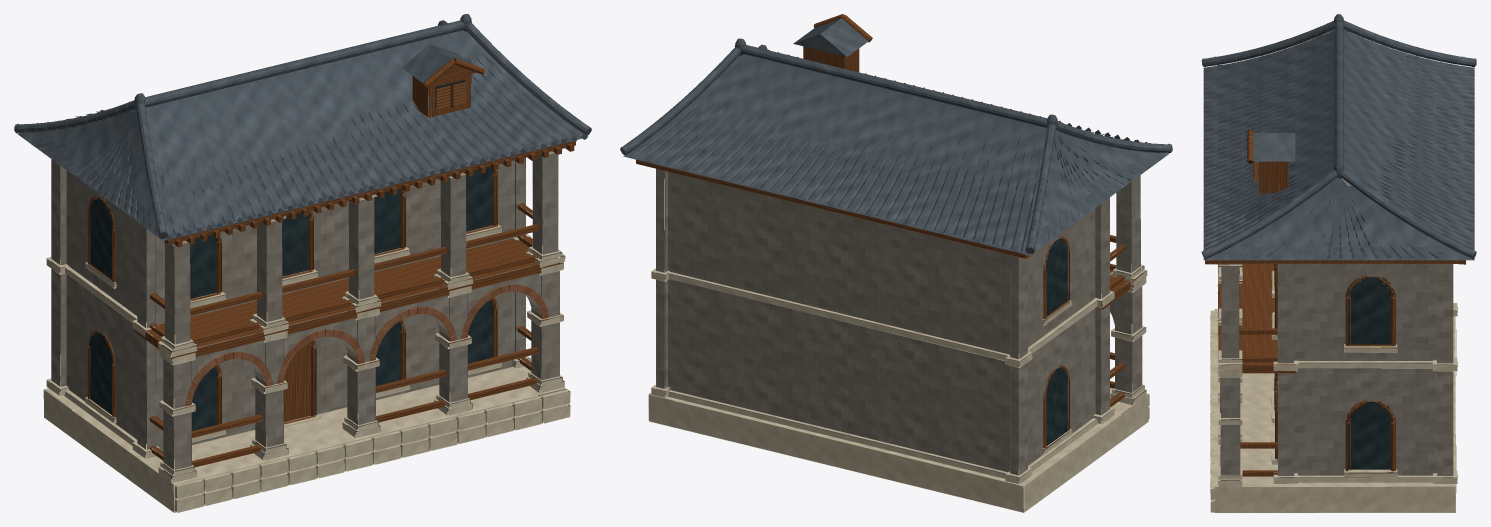
The model's file is zunyi-object.glb.
The picture shows the model from 3 angles, left to right: view 1: azimuth 30°, elevation 25°; view 2: azimuth 150°, elevation 25°; view 3: azimuth 270°, elevation 25°; orthographic projection. The views are drawn at different scales.
Parts seen in each view (by area): view 1: zunyi-object-complete-environment; view 2: zunyi-object-complete-environment; view 3: zunyi-object-complete-environment.
Boxes of the visible parts, x1,y1,x2,y2 form: zunyi-object-complete-environment: [14, 14, 591, 512]; zunyi-object-complete-environment: [620, 14, 1172, 512]; zunyi-object-complete-environment: [1201, 14, 1476, 512].
Bounding box in the file's own units: 1 × 0.8097 × 0.5933.
Materials: 6 (6 with a texture image).
